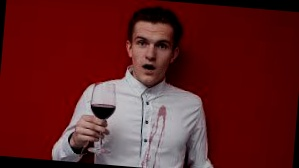wine: (145, 127, 155, 168), (155, 104, 168, 135), (136, 145, 152, 167), (153, 131, 162, 168)
